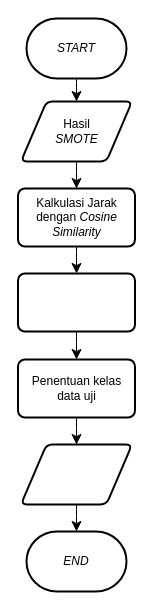
Image size: 153x609. Some labels were removed from this diagram. The box of each missing label's shape, as (x1, y1, x2, y2) in pixels:
Hasil Klasifikasi: (20, 443, 132, 505)
Menentukan tetangga terdekat: (16, 272, 136, 332)
